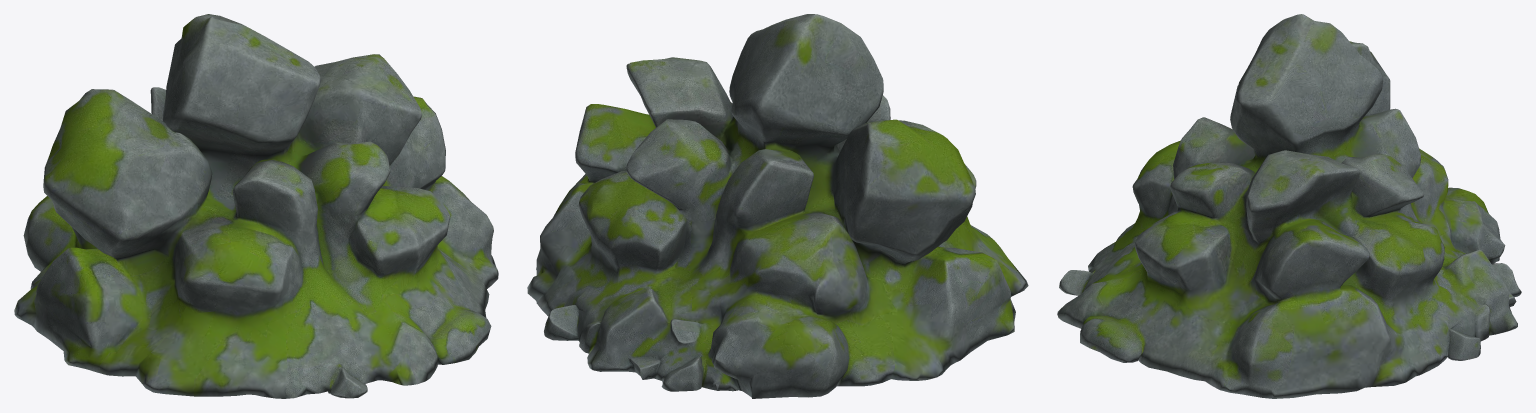
Rendered from rock_cluster.glb.
3 renders of one model, left to right at view 1: azimuth 30°, elevation 25°; view 2: azimuth 150°, elevation 25°; view 3: azimuth 270°, elevation 25°, orthographic. The views are drawn at different scales.
Size of the model in its own units: 0.9487 by 0.6064 by 0.9565.
Materials: 1 (1 with a texture image).
